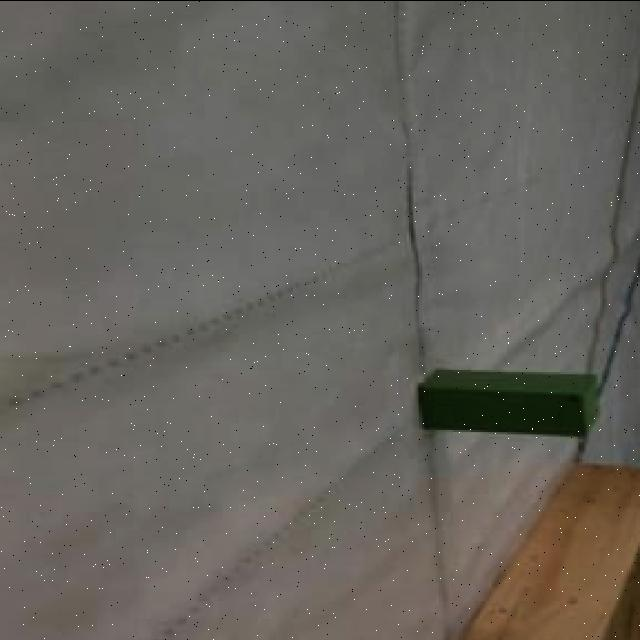greenbox: (417, 369, 606, 438)
